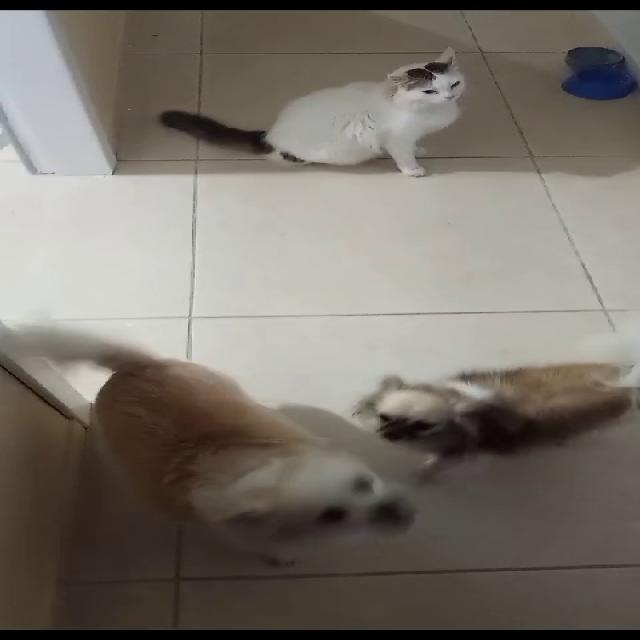Pedrita: (361, 349, 639, 466)
Simba: (186, 43, 500, 191)
Theo: (12, 298, 430, 568)
